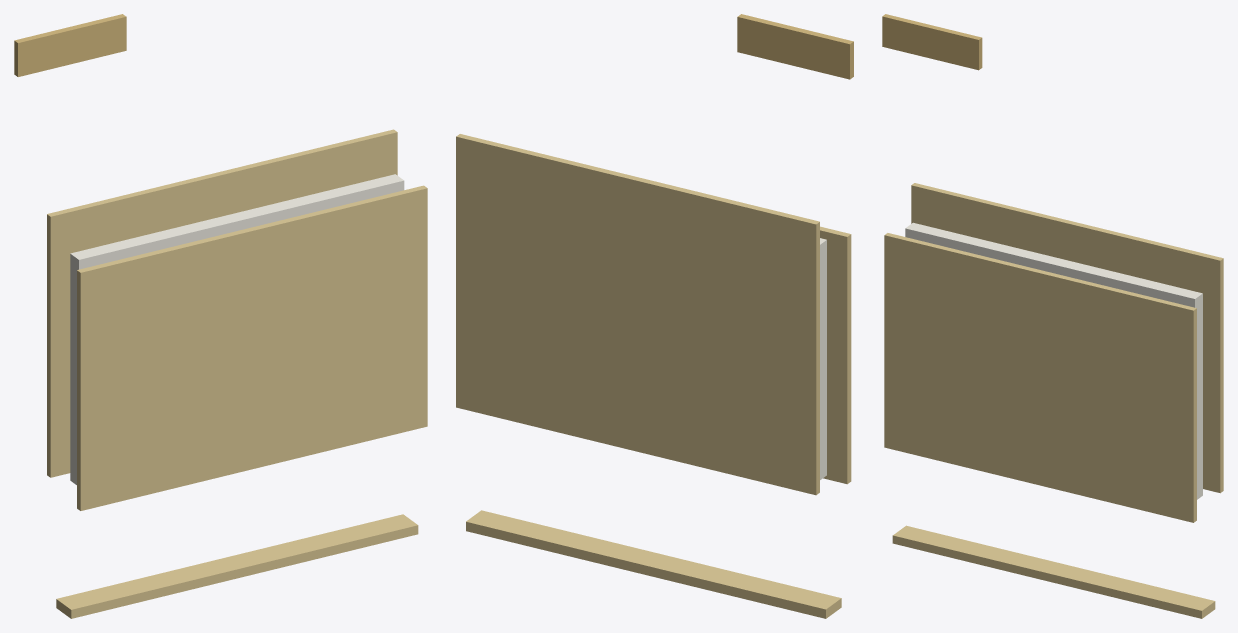
File: folder-v1.glb
3 renders of one model, left to right at view 1: azimuth 30°, elevation 25°; view 2: azimuth 150°, elevation 25°; view 3: azimuth 330°, elevation 25°, orthographic. The views are drawn at different scales.
Parts seen in each view (by area): view 1: folder_front, folder_back, folder_spine, folder_papers, folder_tab; view 2: folder_back, folder_spine, folder_front, folder_tab, folder_papers; view 3: folder_front, folder_back, folder_spine, folder_papers, folder_tab.
Boxes of the visible parts, bbox=[...] form: folder_front: bbox=[77, 185, 427, 510]; folder_back: bbox=[47, 129, 397, 477]; folder_spine: bbox=[56, 514, 418, 618]; folder_papers: bbox=[70, 174, 404, 484]; folder_tab: bbox=[14, 14, 126, 76]; folder_back: bbox=[456, 134, 819, 495]; folder_spine: bbox=[466, 510, 841, 618]; folder_front: bbox=[820, 226, 851, 484]; folder_tab: bbox=[737, 14, 853, 79]; folder_papers: bbox=[820, 238, 826, 479]; folder_front: bbox=[884, 233, 1196, 522]; folder_back: bbox=[911, 183, 1223, 493]; folder_spine: bbox=[892, 525, 1215, 618]; folder_papers: bbox=[905, 222, 1202, 499]; folder_tab: bbox=[882, 14, 982, 70].
Size of the model in its own units: 0.175 by 0.2505 by 0.027.
